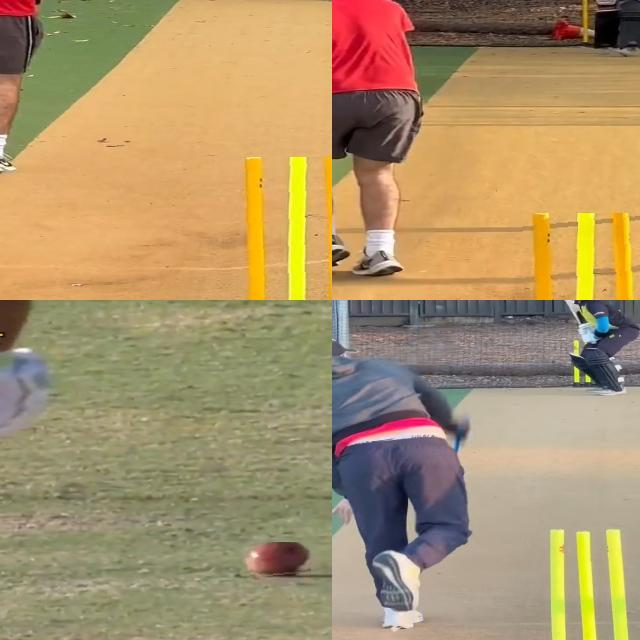Cricket ball: (243, 542, 311, 578)
Stumps: (221, 156, 332, 300), (539, 527, 640, 640), (516, 213, 640, 300), (574, 339, 600, 387)
